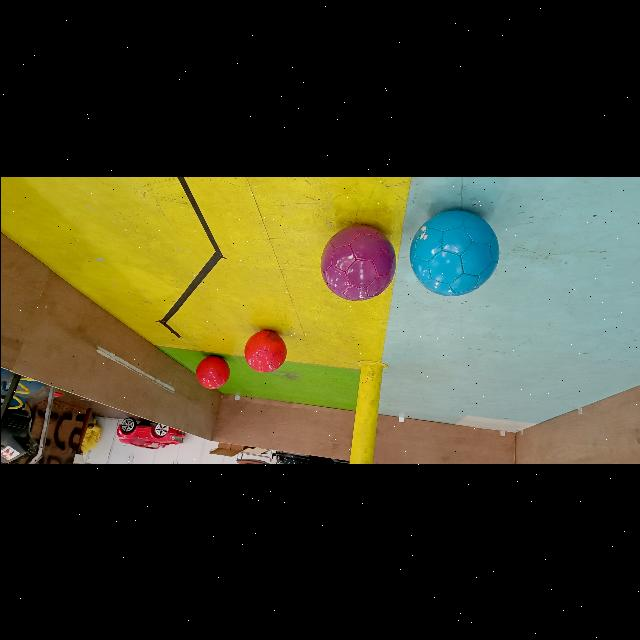B: (406, 208, 499, 298)
P: (318, 222, 396, 302)
R: (242, 330, 286, 372), (194, 354, 230, 390)
